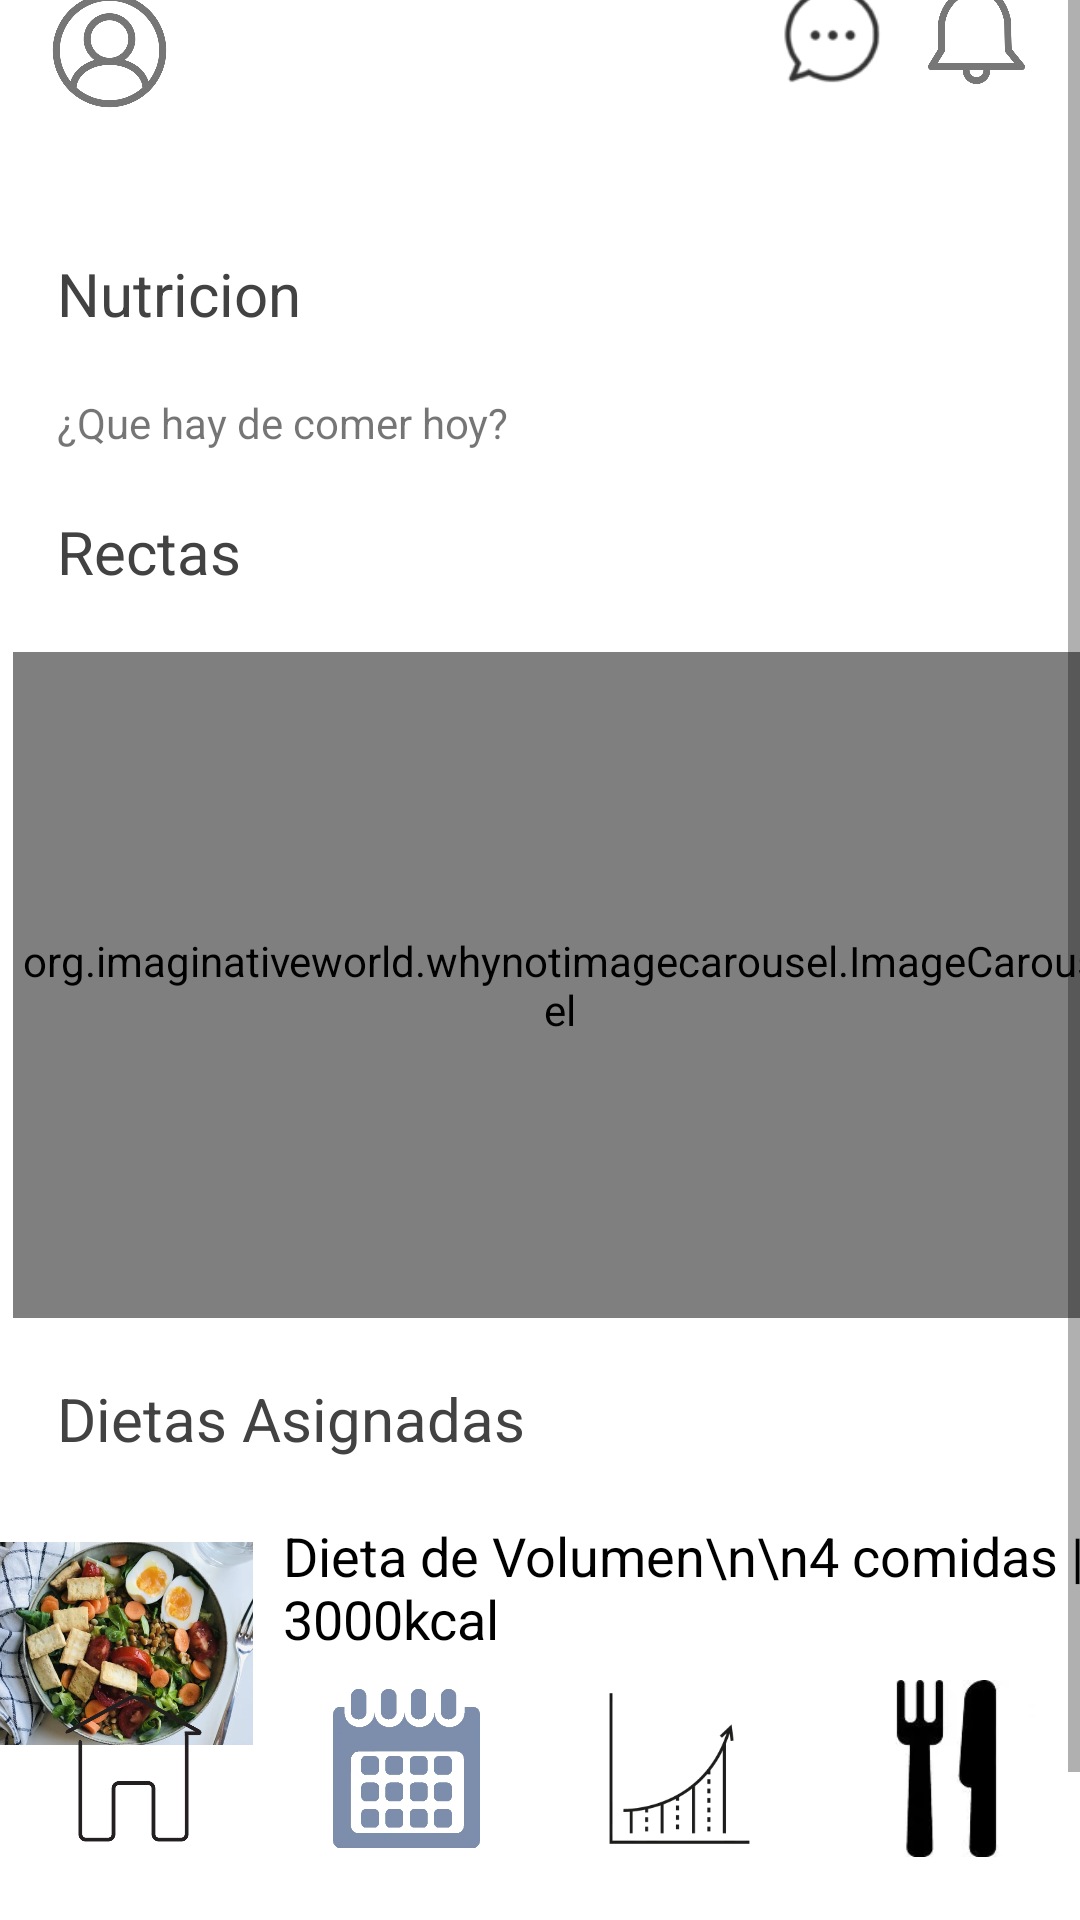

Point at icon controls on the screen. Image size 1080px×1920px, points as (x,y).
receta: (126,1652)
